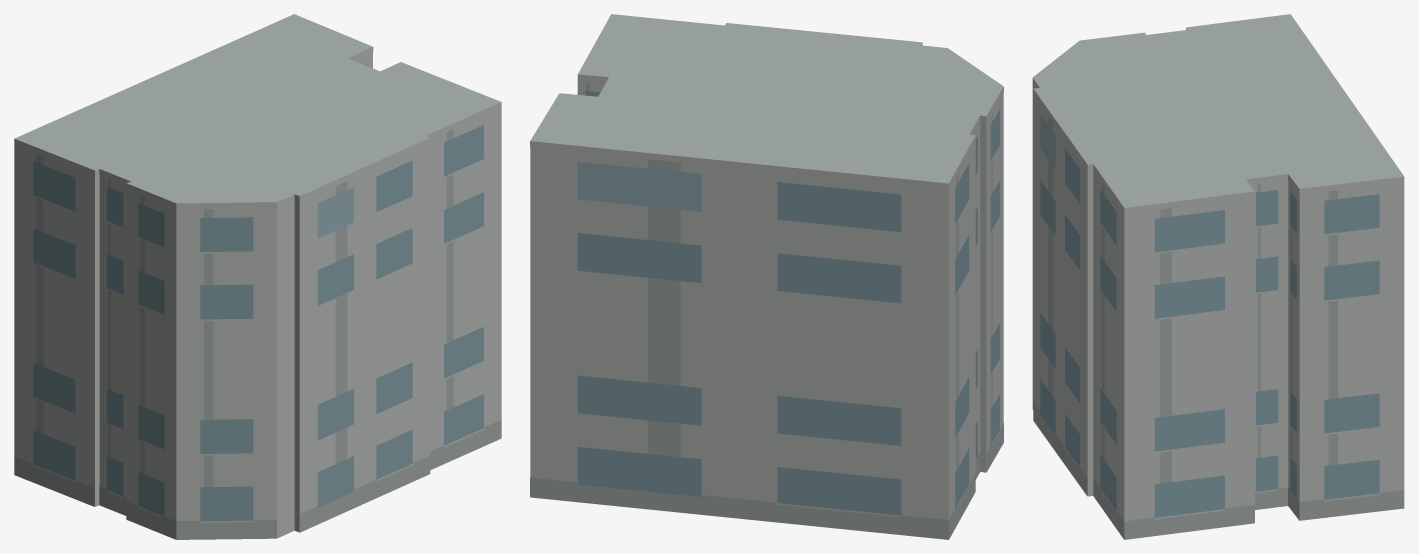
File: survey-upis-32860635.glb
The picture shows the model from 3 angles, left to right: view 1: azimuth 30°, elevation 25°; view 2: azimuth 150°, elevation 25°; view 3: azimuth 270°, elevation 25°; orthographic projection. The views are drawn at different scales.
Parts seen in each view (by area): view 1: survey-upis-32860635.tmp; view 2: survey-upis-32860635.tmp; view 3: survey-upis-32860635.tmp.
Boxes of the visible parts, x1,y1,x2,y2 form: survey-upis-32860635.tmp: (14,14,501,539); survey-upis-32860635.tmp: (530,14,1003,539); survey-upis-32860635.tmp: (1032,14,1404,539).
Size of the model in its own units: 17.47 by 13.93 by 14.16.
